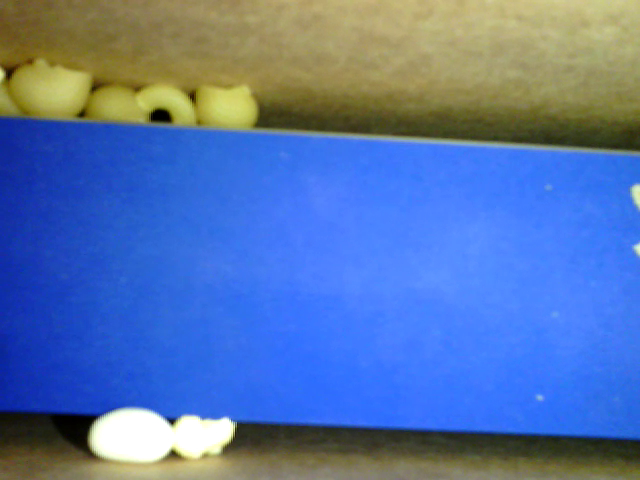elbow: (137, 85, 196, 123)
shell: (10, 58, 90, 118), (195, 78, 259, 130), (86, 79, 146, 123)
